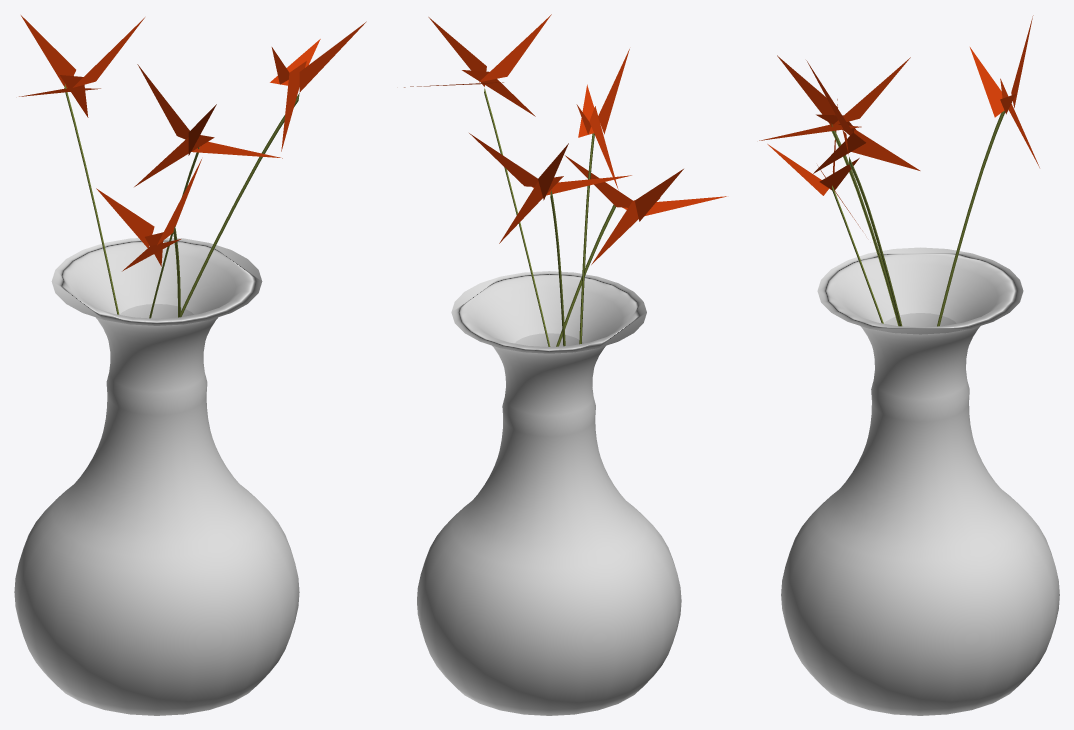
The model's file is etc_03.obj.
The picture shows the model from 3 angles, left to right: view 1: azimuth 30°, elevation 25°; view 2: azimuth 150°, elevation 25°; view 3: azimuth 270°, elevation 25°; orthographic projection. The views are drawn at different scales.
Parts seen in each view (by area): view 1: Mesh21 Model, Mesh9 Stem1 Group1 V_Plant_Bird_of_Paradise1 Model, Mesh17 Flower_Wing13 Flower4 Component_2_1 Group1 V_Plant_Bird_o, Mesh11 Flower_Wing9 Flower3 Component_1_1 Group1 V_Plant_Bird_of, Mesh1 Flower_Wing1 Flower1 Group1 V_Plant_Bird_of_Paradise1 Mode, Mesh7 Flower_Wing7 Flower2 Group1 V_Plant_Bird_of_Paradise1 Mode, Mesh4 Flower_Wing4 Flower1 Group1 V_Plant_Bird_of_Paradise1 Mode, Mesh8 Flower_Wing8 Flower2 Group1 V_Plant_Bird_of_Paradise1 Mode, Mesh19 Flower_Wing15 Flower4 Component_2_1 Group1 V_Plant_Bird_o, Mesh16 Stem4 Component_2_1 Group1 V_Plant_Bird_of_Paradise1 Mode, Mesh6 Flower_Wing6 Flower2 Group1 V_Plant_Bird_of_Paradise1 Mode; view 2: Mesh21 Model, Mesh3 Flower_Wing3 Flower1 Group1 V_Plant_Bird_of_Paradise1 Mode, Mesh19 Flower_Wing15 Flower4 Component_2_1 Group1 V_Plant_Bird_o, Mesh10 Stem2 Group1 V_Plant_Bird_of_Paradise1 Model, Mesh11 Flower_Wing9 Flower3 Component_1_1 Group1 V_Plant_Bird_of, Mesh13 Flower_Wing11 Flower3 Component_1_1 Group1 V_Plant_Bird_o, Mesh14 Flower_Wing12 Flower3 Component_1_1 Group1 V_Plant_Bird_o, Mesh9 Stem1 Group1 V_Plant_Bird_of_Paradise1 Model, Mesh20 Flower_Wing16 Flower4 Component_2_1 Group1 V_Plant_Bird_o, Mesh1 Flower_Wing1 Flower1 Group1 V_Plant_Bird_of_Paradise1 Mode, Mesh4 Flower_Wing4 Flower1 Group1 V_Plant_Bird_of_Paradise1 Mode, Mesh5 Flower_Wing5 Flower2 Group1 V_Plant_Bird_of_Paradise1 Mode (+1 smaller); view 3: Mesh21 Model, Mesh16 Stem4 Component_2_1 Group1 V_Plant_Bird_of_Paradise1 Mode, Mesh2 Flower_Wing2 Flower1 Group1 V_Plant_Bird_of_Paradise1 Mode, Mesh18 Flower_Wing14 Flower4 Component_2_1 Group1 V_Plant_Bird_o, Mesh7 Flower_Wing7 Flower2 Group1 V_Plant_Bird_of_Paradise1 Mode, Mesh5 Flower_Wing5 Flower2 Group1 V_Plant_Bird_of_Paradise1 Mode, Mesh10 Stem2 Group1 V_Plant_Bird_of_Paradise1 Model, Mesh9 Stem1 Group1 V_Plant_Bird_of_Paradise1 Model, Mesh4 Flower_Wing4 Flower1 Group1 V_Plant_Bird_of_Paradise1 Mode, Mesh12 Flower_Wing10 Flower3 Component_1_1 Group1 V_Plant_Bird_o.
Part boxes in pixels (<box>): Mesh21 Model: <box>14,237,299,715</box>; Mesh9 Stem1 Group1 V_Plant_Bird_of_Paradise1 Model: <box>181,93,299,316</box>; Mesh17 Flower_Wing13 Flower4 Component_2_1 Group1 V_Plant_Bird_o: <box>21,15,75,88</box>; Mesh11 Flower_Wing9 Flower3 Component_1_1 Group1 V_Plant_Bird_of: <box>96,188,154,247</box>; Mesh1 Flower_Wing1 Flower1 Group1 V_Plant_Bird_of_Paradise1 Mode: <box>299,21,366,92</box>; Mesh7 Flower_Wing7 Flower2 Group1 V_Plant_Bird_of_Paradise1 Mode: <box>137,64,189,139</box>; Mesh4 Flower_Wing4 Flower1 Group1 V_Plant_Bird_of_Paradise1 Mode: <box>281,61,306,151</box>; Mesh8 Flower_Wing8 Flower2 Group1 V_Plant_Bird_of_Paradise1 Mode: <box>134,135,214,186</box>; Mesh19 Flower_Wing15 Flower4 Component_2_1 Group1 V_Plant_Bird_o: <box>73,17,144,87</box>; Mesh16 Stem4 Component_2_1 Group1 V_Plant_Bird_of_Paradise1 Mode: <box>64,84,119,314</box>; Mesh6 Flower_Wing6 Flower2 Group1 V_Plant_Bird_of_Paradise1 Mode: <box>192,141,282,158</box>; Mesh21 Model: <box>417,271,681,715</box>; Mesh3 Flower_Wing3 Flower1 Group1 V_Plant_Bird_of_Paradise1 Mode: <box>479,14,551,82</box>; Mesh19 Flower_Wing15 Flower4 Component_2_1 Group1 V_Plant_Bird_o: <box>469,133,538,186</box>; Mesh10 Stem2 Group1 V_Plant_Bird_of_Paradise1 Model: <box>579,133,594,344</box>; Mesh11 Flower_Wing9 Flower3 Component_1_1 Group1 V_Plant_Bird_of: <box>635,169,683,221</box>; Mesh13 Flower_Wing11 Flower3 Component_1_1 Group1 V_Plant_Bird_o: <box>565,155,632,207</box>; Mesh14 Flower_Wing12 Flower3 Component_1_1 Group1 V_Plant_Bird_o: <box>591,197,660,264</box>; Mesh9 Stem1 Group1 V_Plant_Bird_of_Paradise1 Model: <box>484,88,550,346</box>; Mesh20 Flower_Wing16 Flower4 Component_2_1 Group1 V_Plant_Bird_o: <box>499,176,563,243</box>; Mesh1 Flower_Wing1 Flower1 Group1 V_Plant_Bird_of_Paradise1 Mode: <box>428,17,486,86</box>; Mesh4 Flower_Wing4 Flower1 Group1 V_Plant_Bird_of_Paradise1 Mode: <box>462,70,535,116</box>; Mesh5 Flower_Wing5 Flower2 Group1 V_Plant_Bird_of_Paradise1 Mode: <box>598,49,629,134</box>; Mesh21 Model: <box>781,247,1059,715</box>; Mesh16 Stem4 Component_2_1 Group1 V_Plant_Bird_of_Paradise1 Mode: <box>937,110,1005,326</box>; Mesh2 Flower_Wing2 Flower1 Group1 V_Plant_Bird_of_Paradise1 Mode: <box>851,129,920,170</box>; Mesh18 Flower_Wing14 Flower4 Component_2_1 Group1 V_Plant_Bird_o: <box>970,47,1004,117</box>; Mesh7 Flower_Wing7 Flower2 Group1 V_Plant_Bird_of_Paradise1 Mode: <box>832,57,910,125</box>; Mesh5 Flower_Wing5 Flower2 Group1 V_Plant_Bird_of_Paradise1 Mode: <box>777,55,837,124</box>; Mesh10 Stem2 Group1 V_Plant_Bird_of_Paradise1 Model: <box>831,123,899,326</box>; Mesh9 Stem1 Group1 V_Plant_Bird_of_Paradise1 Model: <box>849,157,902,326</box>; Mesh4 Flower_Wing4 Flower1 Group1 V_Plant_Bird_of_Paradise1 Mode: <box>813,132,865,173</box>; Mesh12 Flower_Wing10 Flower3 Component_1_1 Group1 V_Plant_Bird_o: <box>767,144,828,195</box>.
Bounding box in the file's own units: 258 × 549 × 235.
